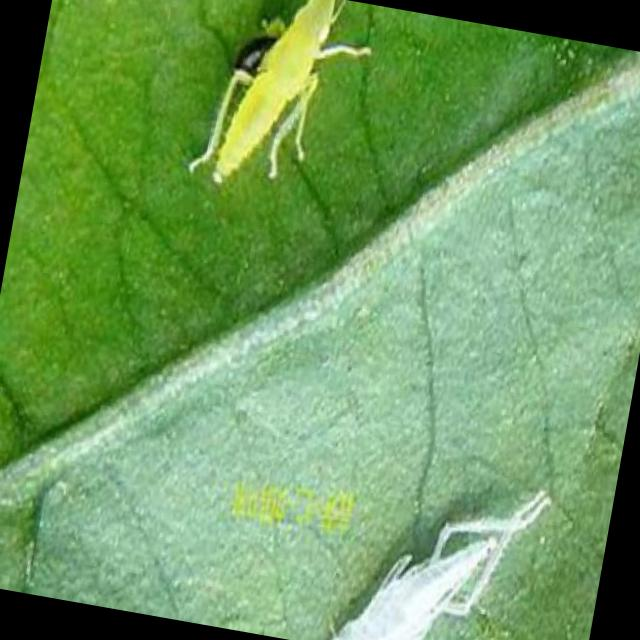green-leafhopper: (185, 0, 375, 203)
